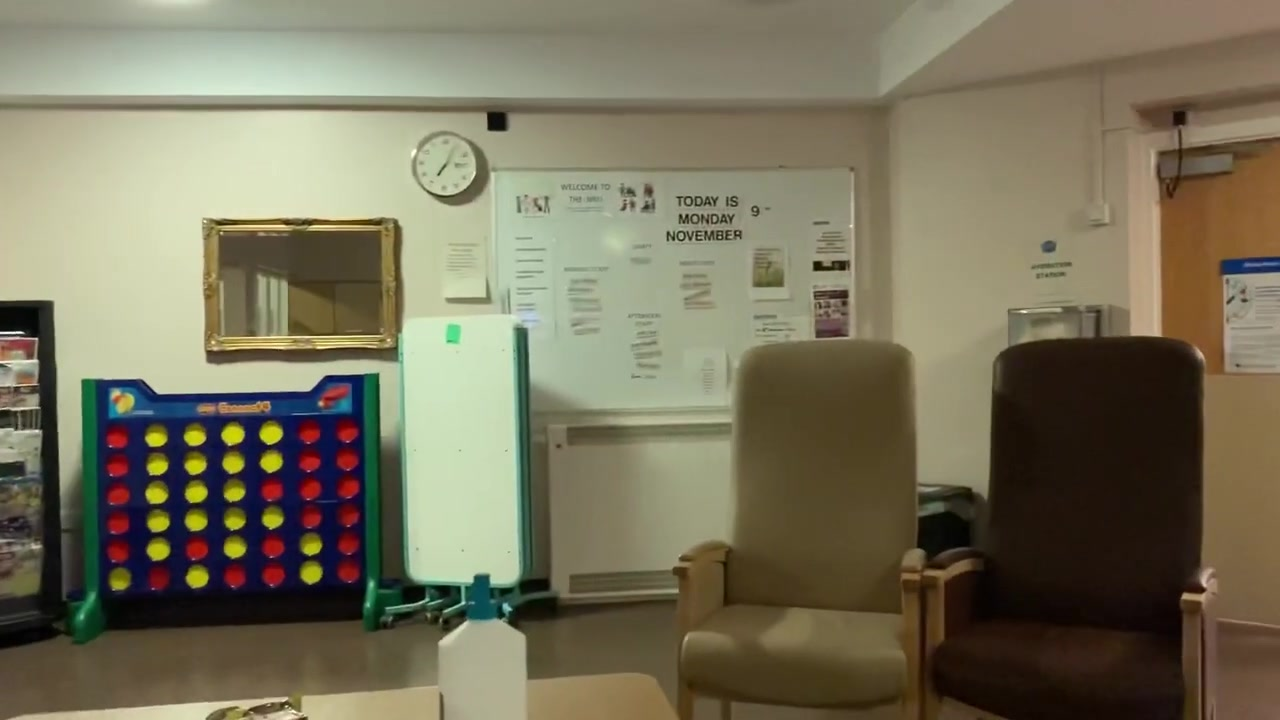chair: (922, 335, 1217, 720), (672, 338, 926, 720)
table: (1, 672, 676, 720)
